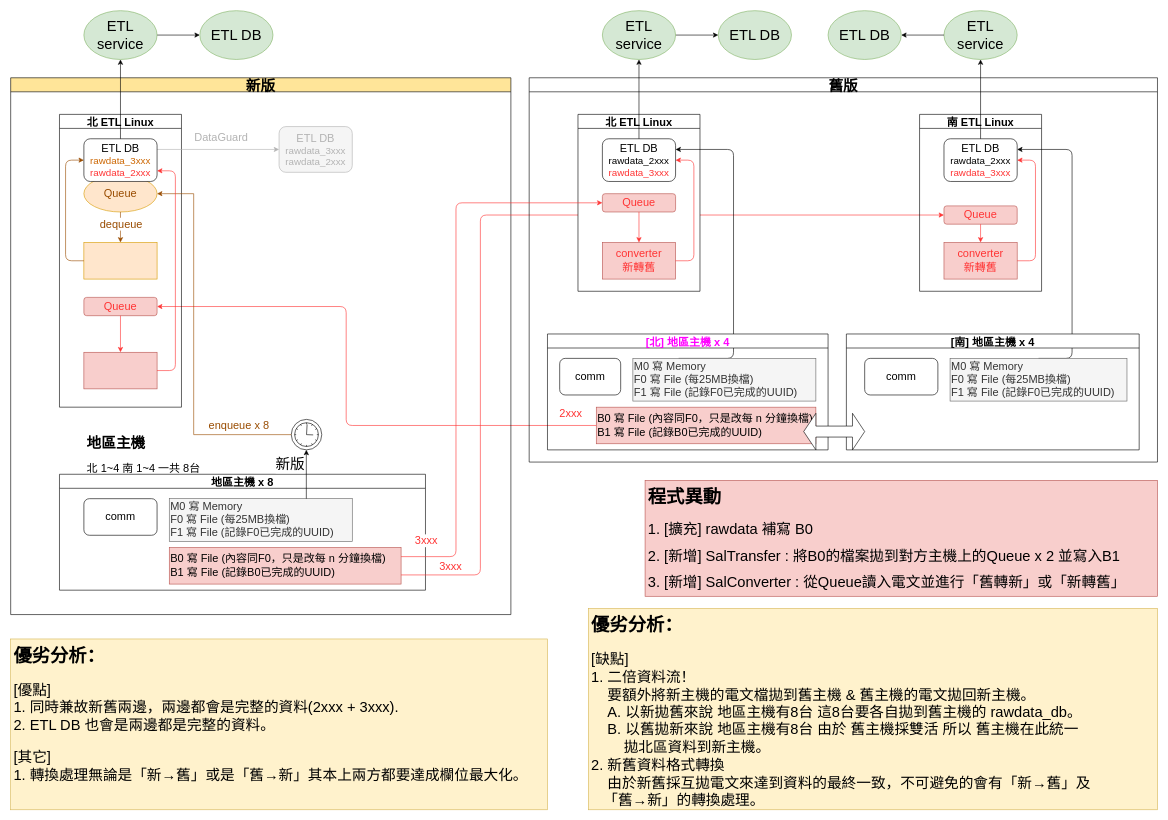
This 1168x820 diagram has some shape labels left out. Each missing label, with the centre of its shape:
"consumer 新版" goes at (120,260).
"converter 舊轉新" goes at (120,370).
